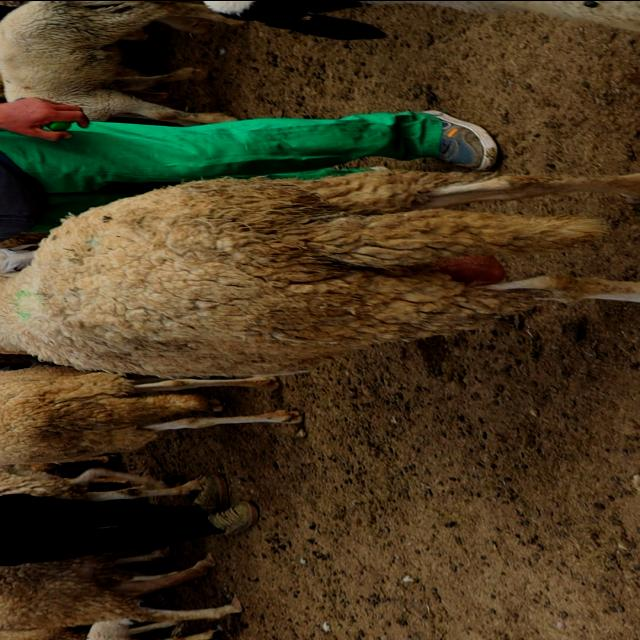Score_2: (0, 168, 639, 377)
